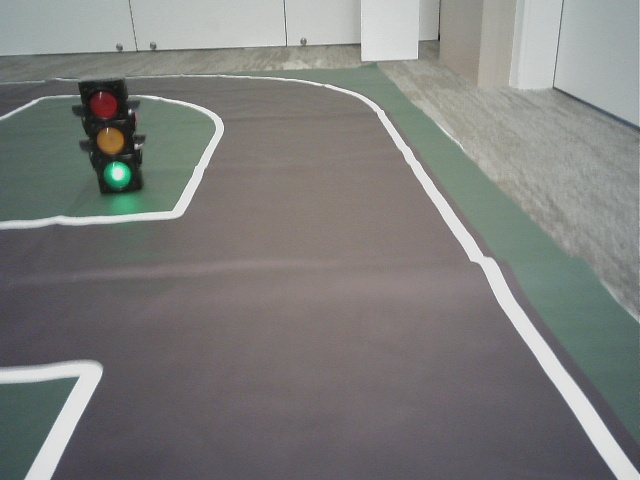green: (85, 84, 136, 185)
